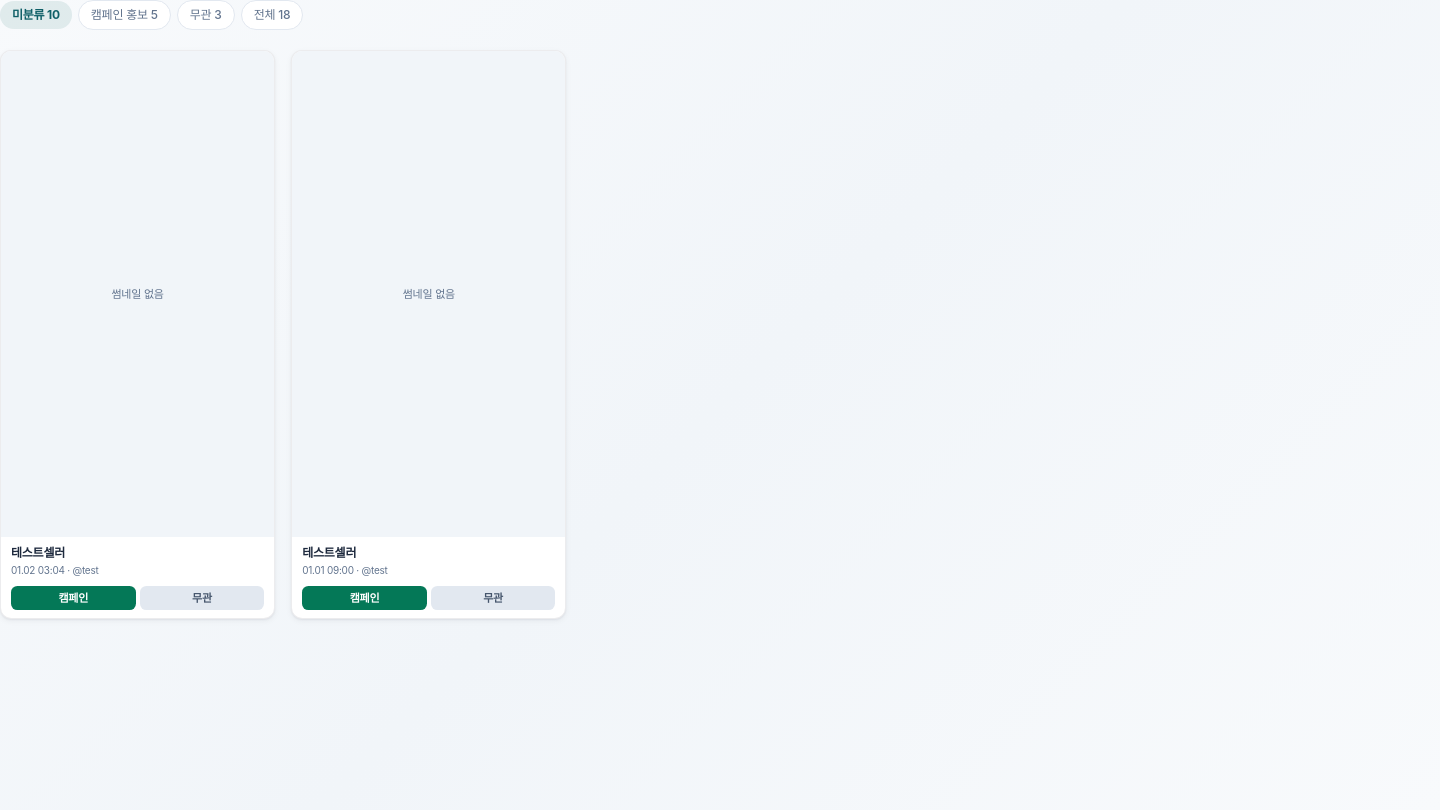
Test: StoryInboxGrid — 누르는 즉시 반영 › 저장이 끝나기 전에 카드가 빠지고 탭 개수가 바뀐다
Click the button "캠페인" below "01.02 03:04" at x=73, y=598, box [11,586,136,610]
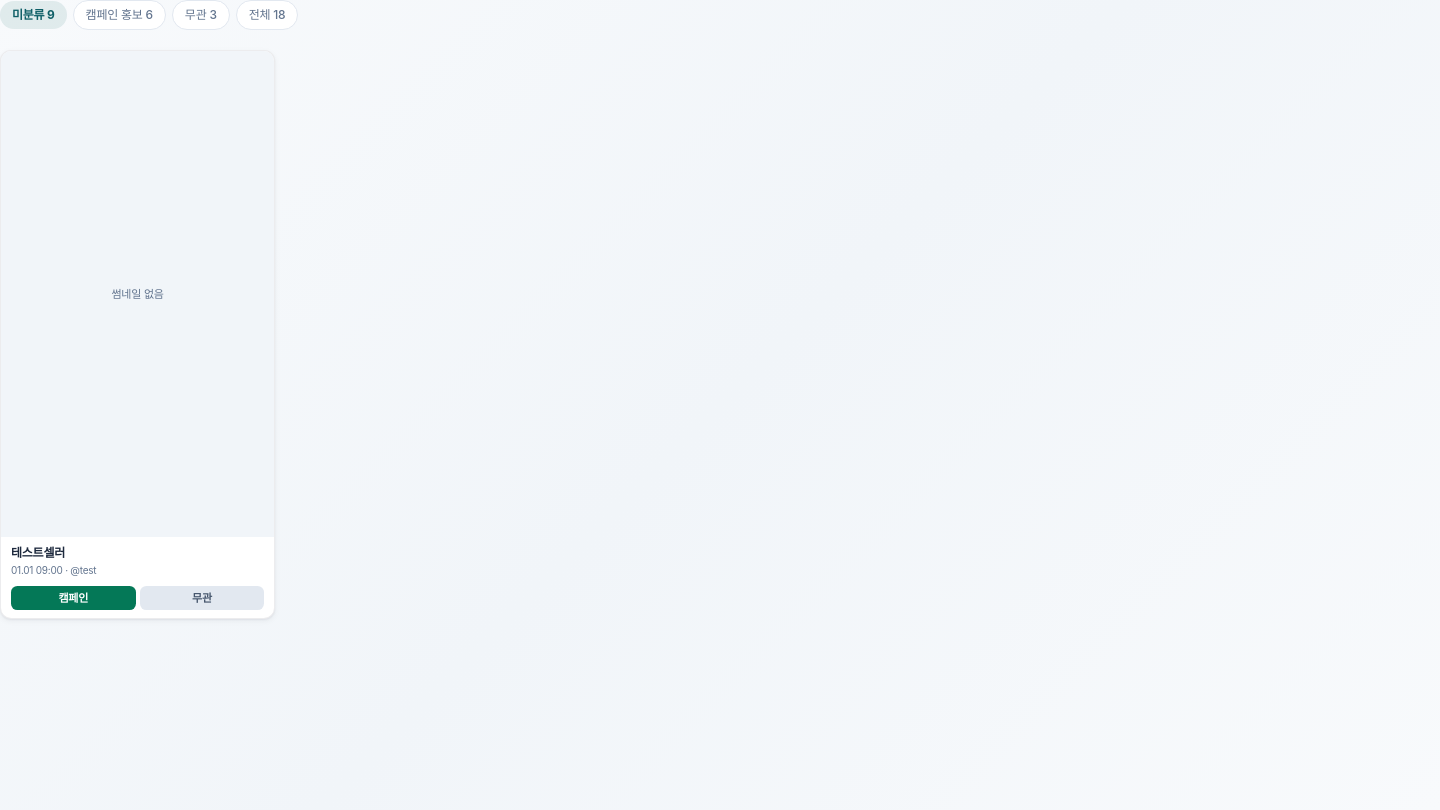
Expected: the text "01.01 09:00 · @test" is shown, [11,564,96,576]
Now the text "01.02 03:04" is gone
